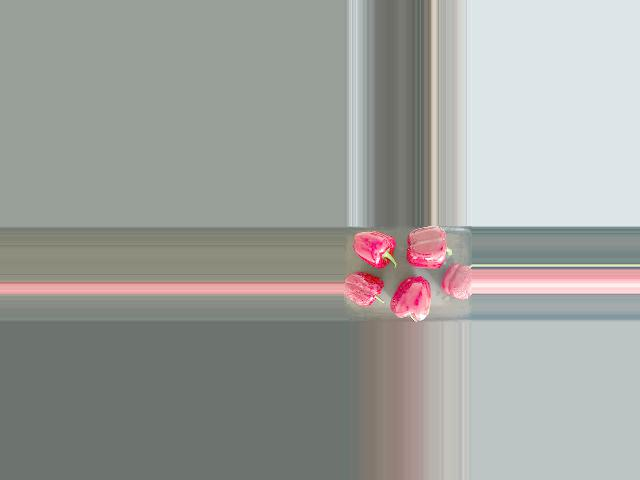bell_pepper: (439, 261, 471, 306)
